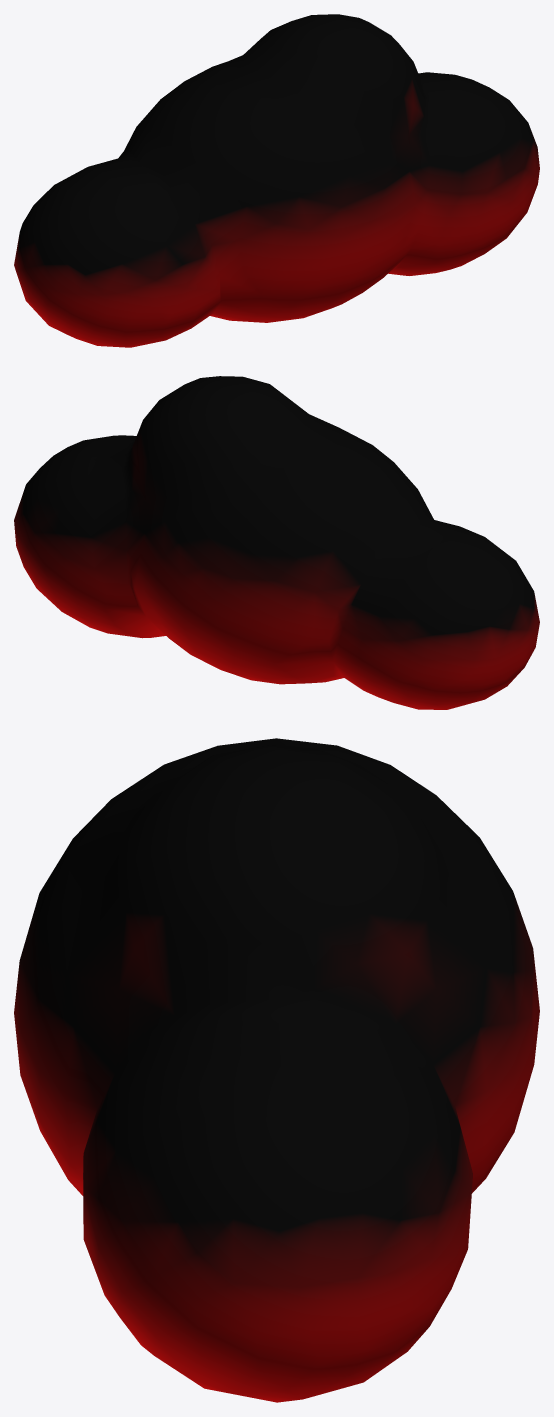
File: bg-cloud.glb
3 renders of one model, top to bottom at view 1: azimuth 30°, elevation 25°; view 2: azimuth 150°, elevation 25°; view 3: azimuth 270°, elevation 25°, orthographic. The views are drawn at different scales.
Visible parts, largest first — view 1: cloudMesh; view 2: cloudMesh; view 3: cloudMesh.
Boxes of the visible parts, left/top/right/bottom form: cloudMesh: left=14, top=14, right=539, bottom=347; cloudMesh: left=14, top=376, right=539, bottom=709; cloudMesh: left=14, top=738, right=539, bottom=1402.
Bounding box in the file's own units: 3.43 × 1.79 × 1.6.
